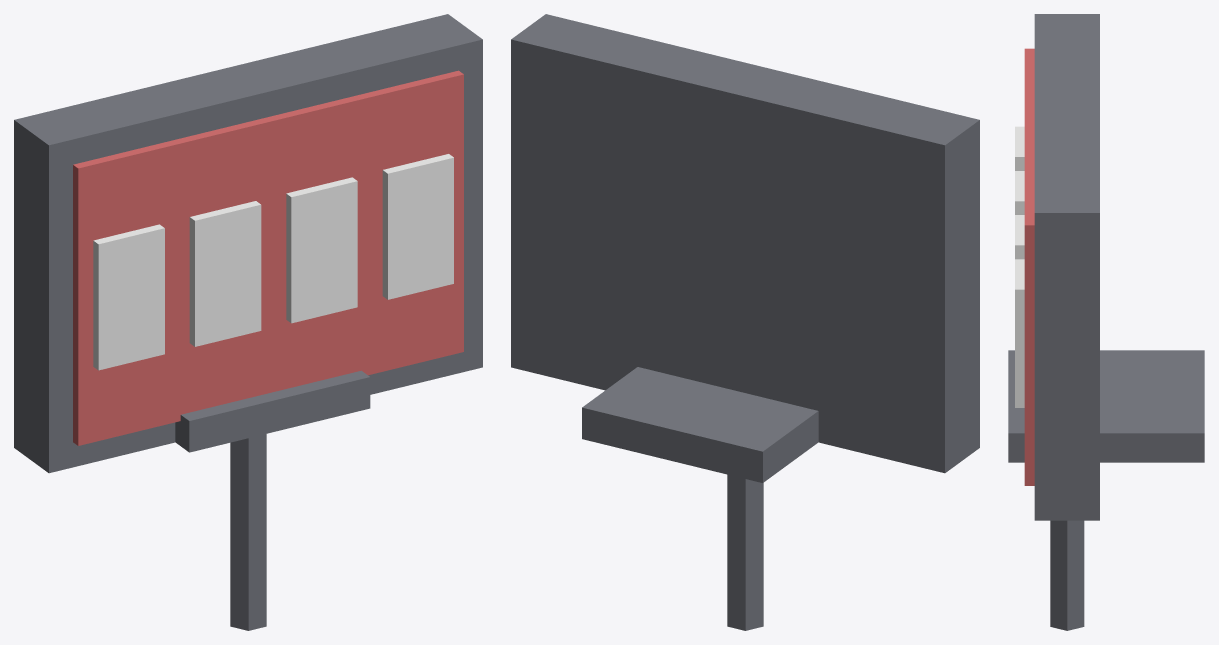
The model's file is timer_clock.glb.
3 renders of one model, left to right at view 1: azimuth 30°, elevation 25°; view 2: azimuth 150°, elevation 25°; view 3: azimuth 270°, elevation 25°, orthographic. The views are drawn at different scales.
Visible parts, largest first — view 1: timer-clock; view 2: timer-clock; view 3: timer-clock.
Boxes of the visible parts, <box> form: timer-clock: <box>14,14,482,630</box>; timer-clock: <box>511,14,979,630</box>; timer-clock: <box>1008,14,1204,630</box>.
Size of the model in its own units: 0.7201 by 0.86 by 0.3.
